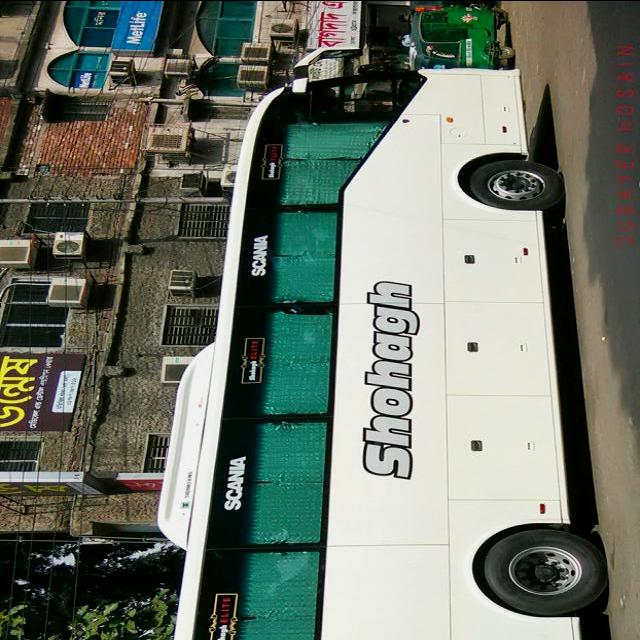bus: (153, 45, 613, 640)
